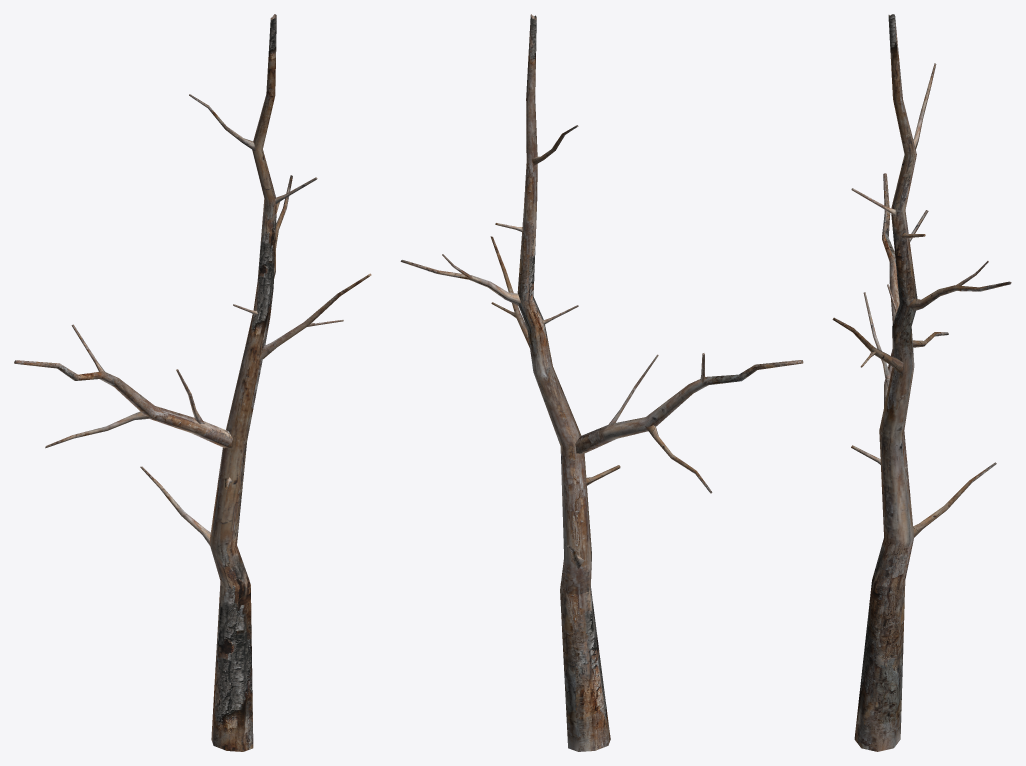
The model's file is trunk3.fbx.
3 renders of one model, left to right at view 1: azimuth 30°, elevation 25°; view 2: azimuth 150°, elevation 25°; view 3: azimuth 270°, elevation 25°, orthographic. The views are drawn at different scales.
Parts seen in each view (by area): view 1: polySurface74; view 2: polySurface74; view 3: polySurface74.
Part boxes in pixels (<box>): polySurface74: <box>14,14,371,751</box>; polySurface74: <box>400,14,803,751</box>; polySurface74: <box>832,14,1011,751</box>.
Size of the model in its own units: 12.04 by 24.37 by 5.25.
